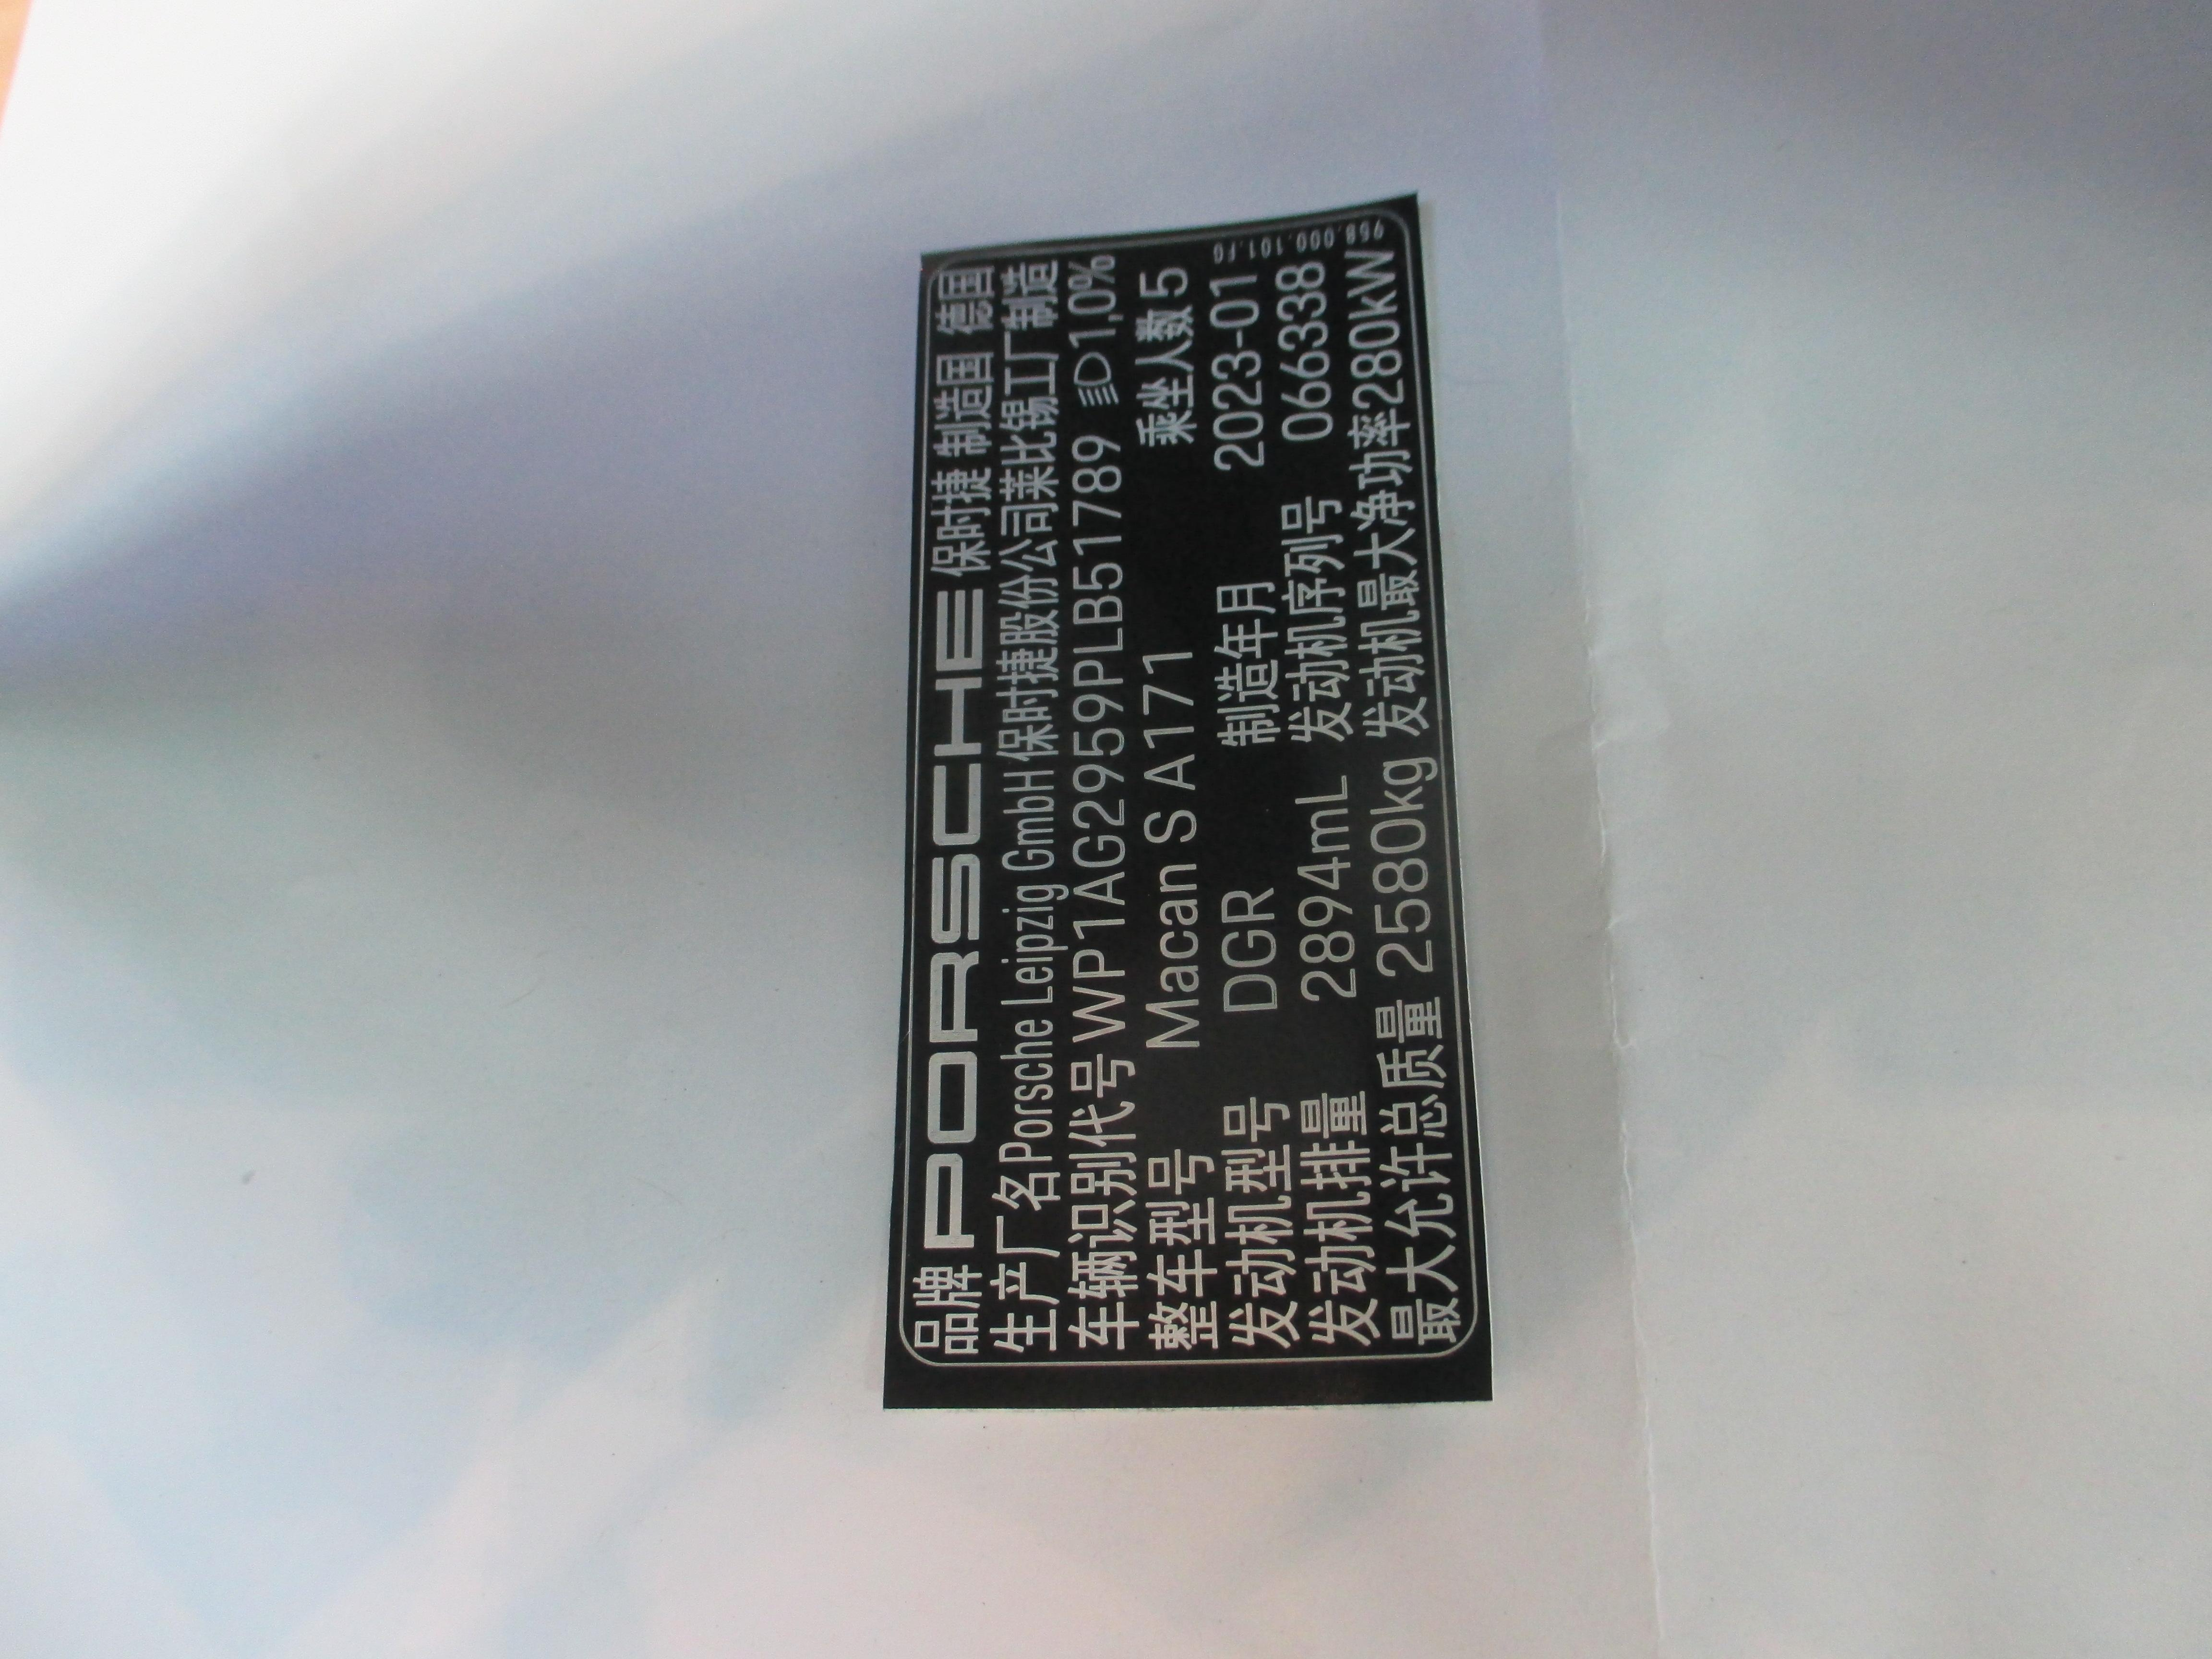Sign: (900, 214, 1479, 1366)
